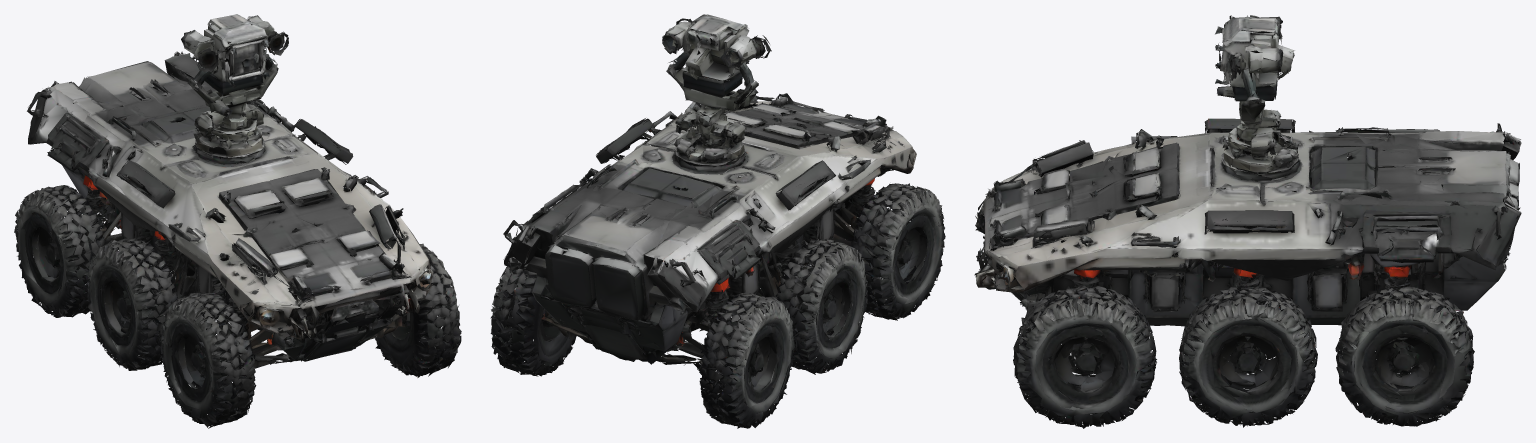
Rendered from example-brand_image_42.glb.
The picture shows the model from 3 angles, left to right: view 1: azimuth 30°, elevation 25°; view 2: azimuth 150°, elevation 25°; view 3: azimuth 270°, elevation 25°; orthographic projection. The views are drawn at different scales.
Parts seen in each view (by area): view 1: Mesh_0; view 2: Mesh_0; view 3: Mesh_0.
Boxes of the visible parts, x1,y1,x2,y2 form: Mesh_0: (14, 14, 461, 428); Mesh_0: (490, 14, 945, 428); Mesh_0: (974, 15, 1521, 428).
Size of the model in its own units: 0.5773 by 0.6956 by 0.9999.
1 material, 1 textured.
